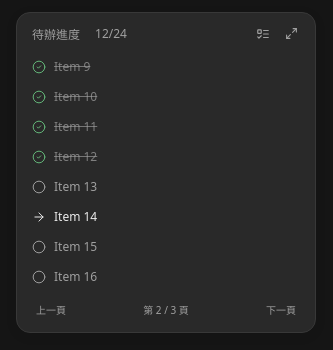
Test: conversation Todo progress card › keeps a long list bounded and starts on the actual active item
The image size is (333, 350).
Expected: the text named "已完成 12/24" is shown, [95,25,127,42]
Expected: the text "Item 14" is shown, [54,208,97,226]
Click the button "下一頁" at (281, 310), box [262,299,300,320]
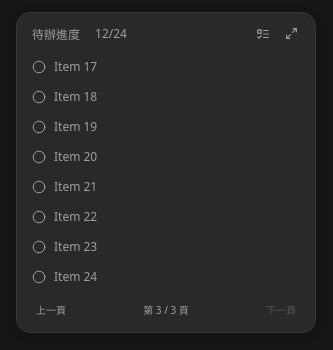
Expected: the text "Item 24" is shown, [54,268,97,286]
Expected: the text "Item 14" is gone
